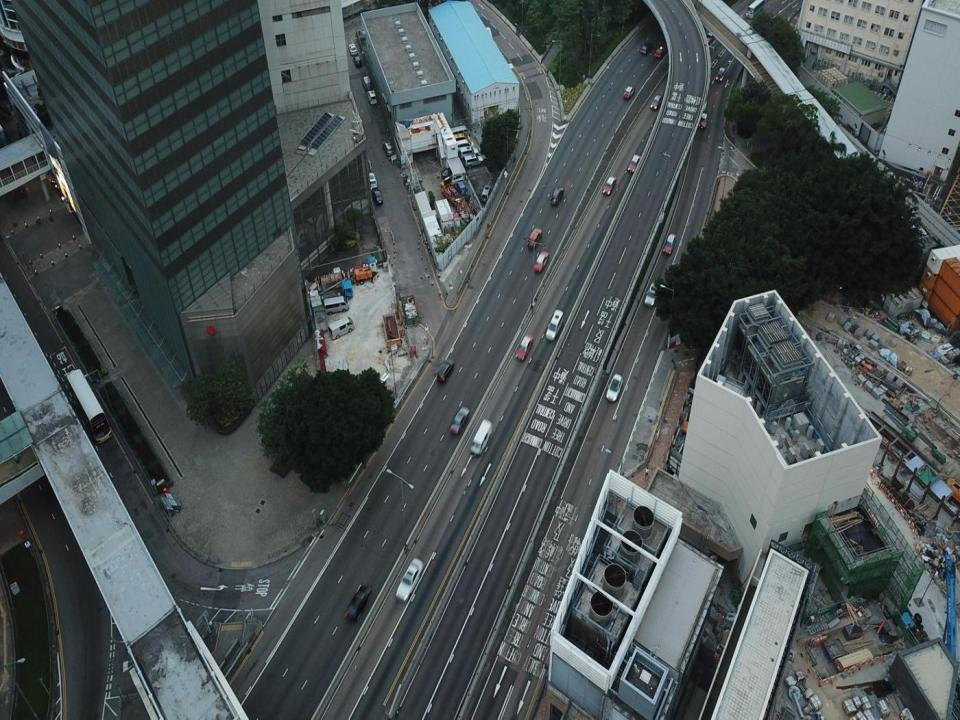bus: (65, 368, 111, 444)
car: (396, 557, 424, 602), (344, 585, 371, 621), (449, 407, 470, 435), (514, 333, 534, 360), (606, 372, 623, 401), (644, 280, 660, 307), (436, 359, 454, 382), (662, 231, 676, 256), (602, 175, 617, 198), (525, 228, 542, 248), (534, 250, 549, 272), (550, 185, 565, 207), (639, 36, 653, 58), (655, 40, 669, 61), (440, 164, 462, 176), (628, 154, 641, 174), (623, 82, 635, 102), (372, 185, 383, 206), (706, 25, 718, 43), (651, 93, 662, 112), (367, 170, 378, 189), (716, 67, 727, 86), (383, 137, 394, 155), (367, 88, 378, 106), (481, 184, 491, 203), (362, 74, 372, 92), (699, 112, 708, 131), (354, 53, 361, 68), (349, 42, 357, 55)
truck: (318, 276, 351, 307)
van: (470, 419, 493, 453), (328, 316, 354, 341), (545, 308, 562, 341), (322, 295, 350, 314), (746, 0, 765, 25), (447, 124, 470, 139), (455, 138, 477, 152), (464, 154, 484, 168), (459, 146, 479, 160), (451, 132, 471, 144), (444, 172, 464, 182)
